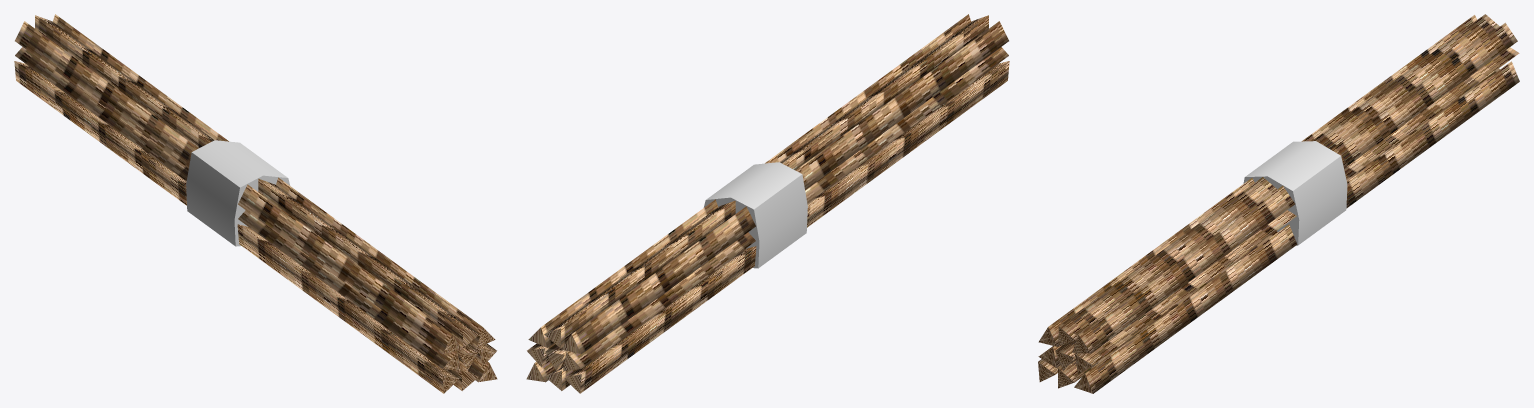
File: MetalPipes.fbx
3 renders of one model, left to right at view 1: azimuth 30°, elevation 25°; view 2: azimuth 150°, elevation 25°; view 3: azimuth 330°, elevation 25°, orthographic.
Visible parts, largest first — view 1: Cylinder010, Box004; view 2: Cylinder010, Box004; view 3: Cylinder010, Box004.
Part boxes in pixels (x1,y1,x2,y2): Cylinder010: [14, 14, 497, 393]; Box004: [186, 140, 290, 246]; Cylinder010: [526, 14, 1009, 393]; Box004: [703, 162, 807, 268]; Cylinder010: [1038, 14, 1519, 393]; Box004: [1243, 141, 1347, 245].
Size of the model in its own units: 11.77 by 12.81 by 145.
1 material, 1 textured.
